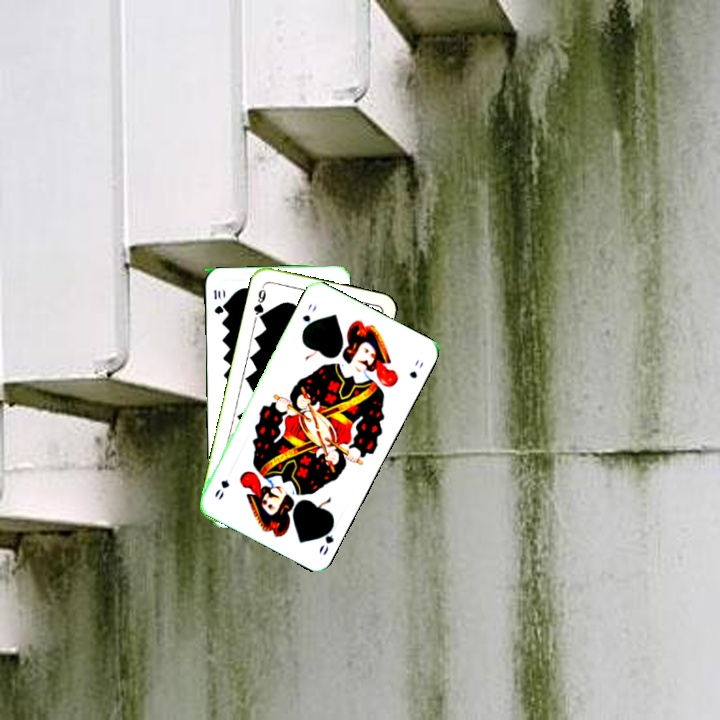G10: (210, 284, 226, 316)
G9: (250, 281, 269, 322)
GO: (315, 518, 337, 558), (298, 300, 319, 335)
